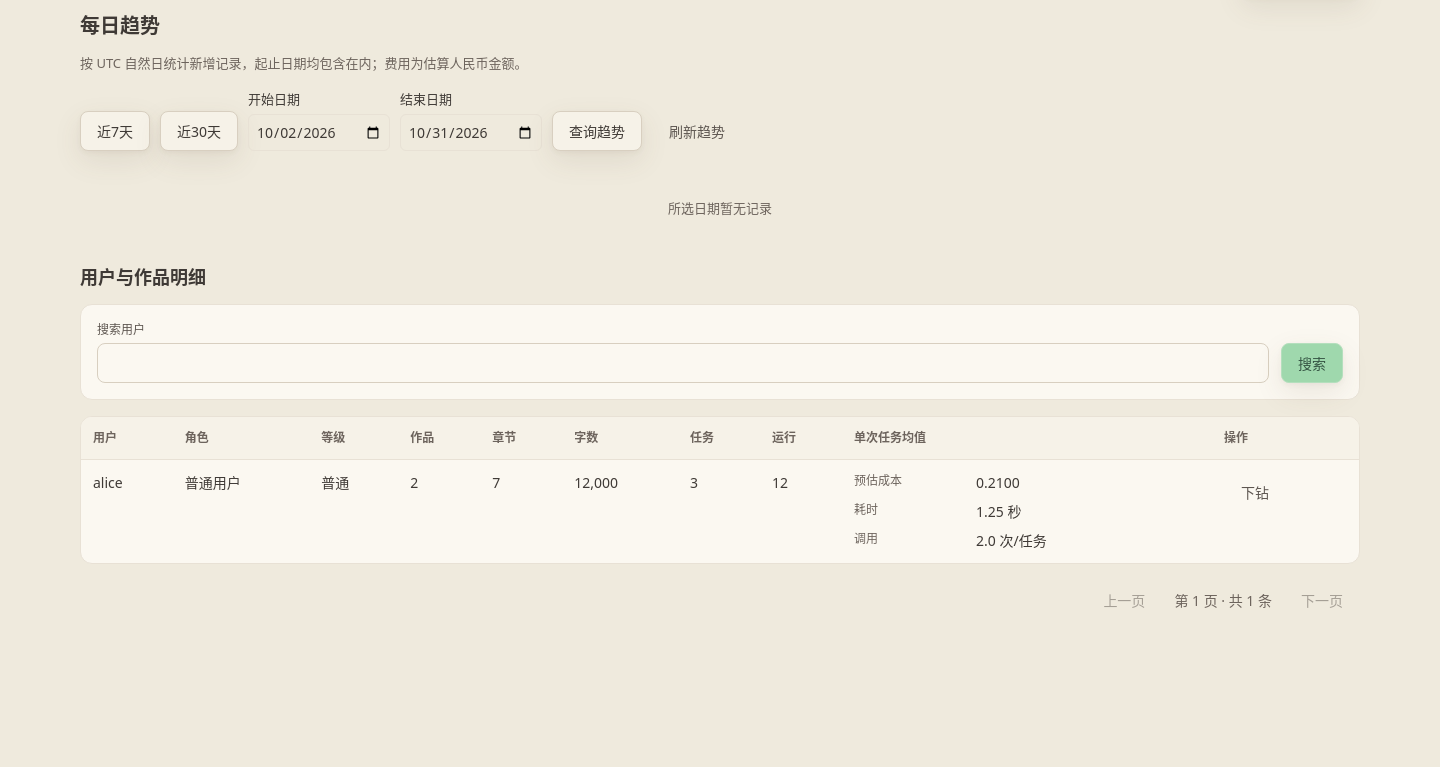
Test: drills from a user to their books, tasks, chapters and snapshot refs
The image size is (1440, 767).
Click the button with aria-label "分析 alice" at (1255, 492), box [1224, 472, 1286, 512]
(page scrolled)
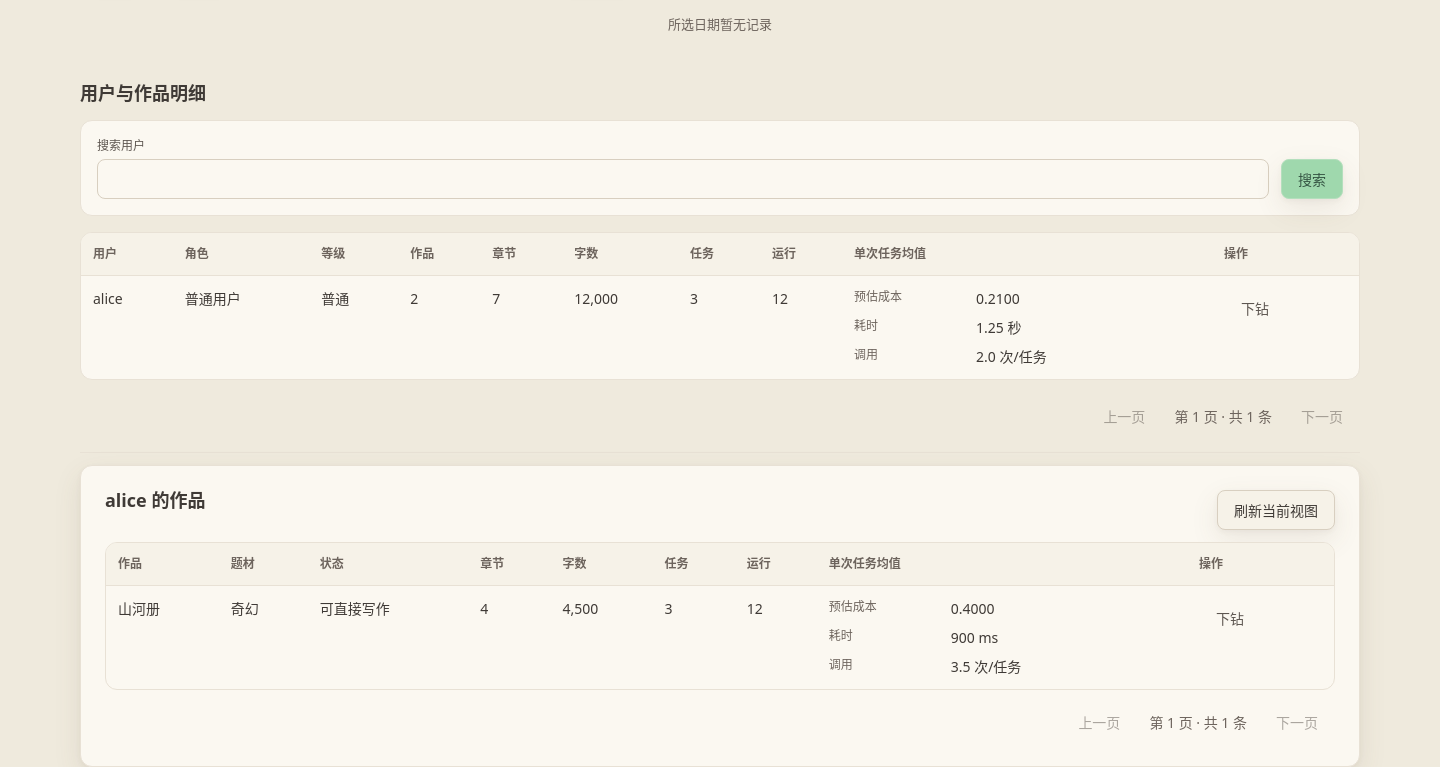
Expected: the element "alice 的作品" shows "0.4000", [951, 599, 994, 618]
Expected: the element "alice 的作品" shows "3.5 次/任务", [951, 657, 1021, 676]
Click the button with aria-label "查看《山河册》的分析" at (1230, 618), box [1199, 598, 1261, 638]
(page scrolled)
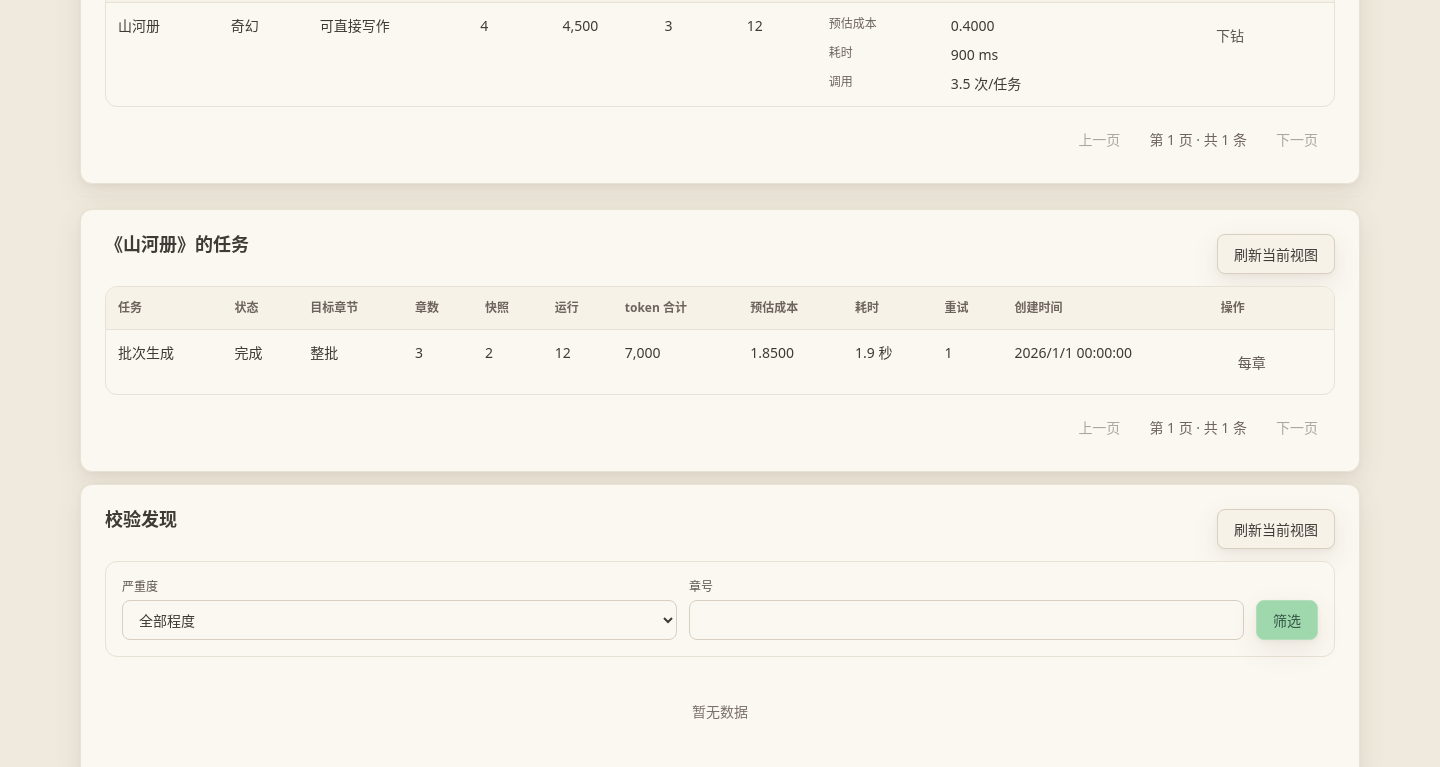
Expected: the element "《山河册》的任务" shows "批次生成", [118, 343, 174, 362]
Expected: the element "《山河册》的任务" shows "1.85", [750, 343, 794, 362]
Expected: the heading "校验发现" is shown, [105, 509, 177, 531]
Click the button with aria-label "查看任务 task-1 的每章分解" at (1252, 362), box [1221, 342, 1283, 382]
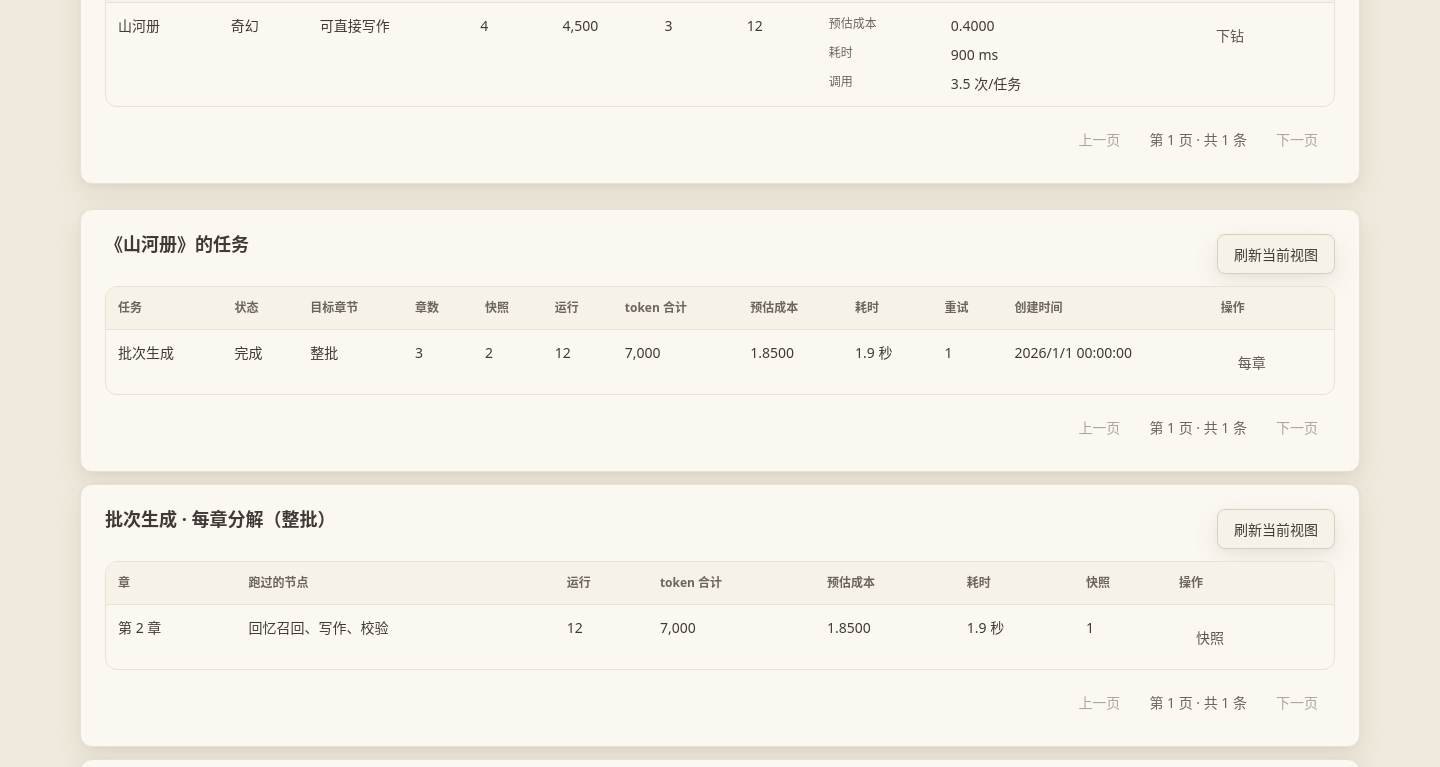
Expected: the element "批次生成 · 每章分解（整批）" shows "回忆召回、写作、校验", [249, 618, 389, 637]
Expected: the element "批次生成 · 每章分解（整批）" shows "第 2 章", [80, 484, 1360, 747]
Click the button with aria-label "查看第 2 章的快照" at (1210, 637), box [1179, 617, 1241, 657]
(page scrolled)
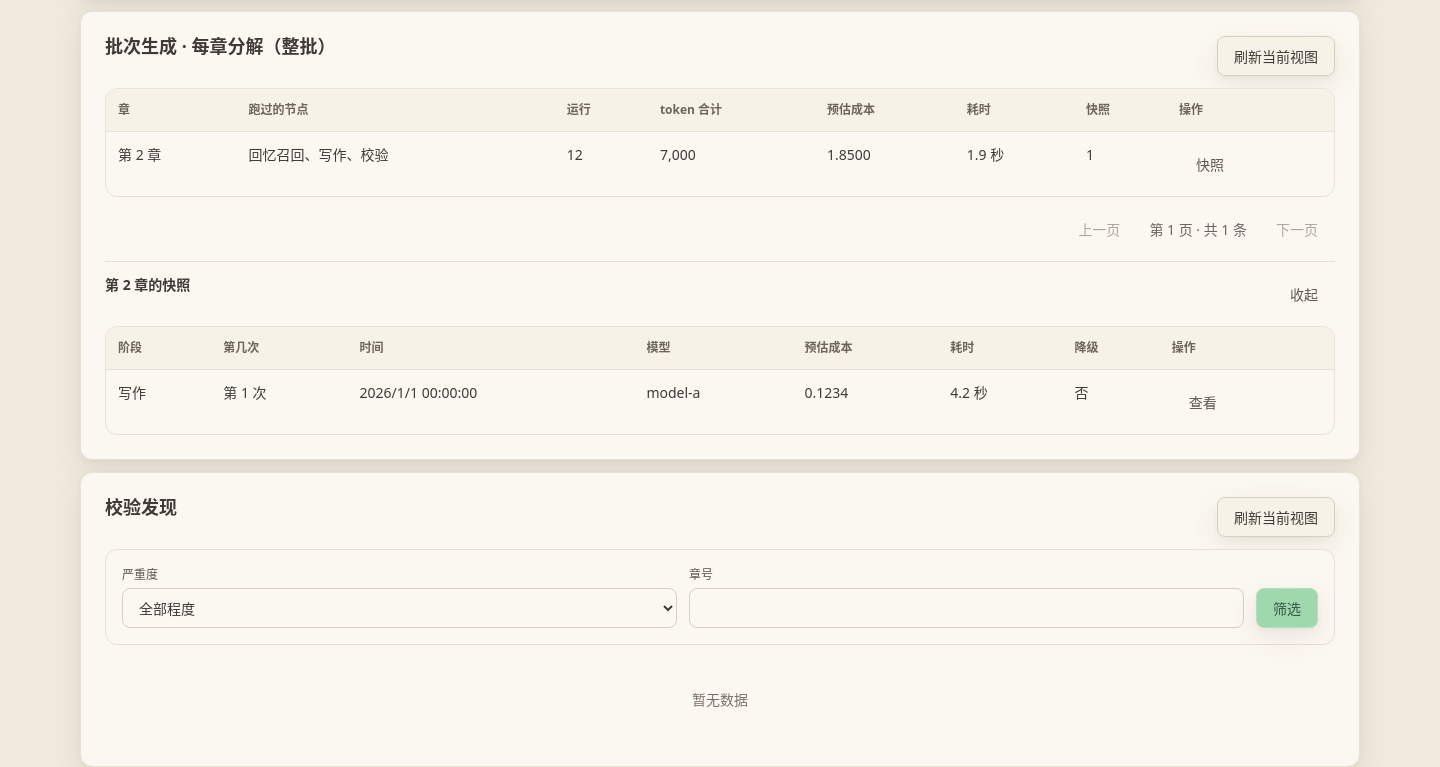
Expected: the heading "第 2 章的快照" is shown, [105, 274, 190, 295]
Expected: the text "model-a" is shown, [634, 370, 792, 434]
Expected: the button with aria-label "查看第 2 章 write 快照" is shown, [1172, 382, 1234, 422]
